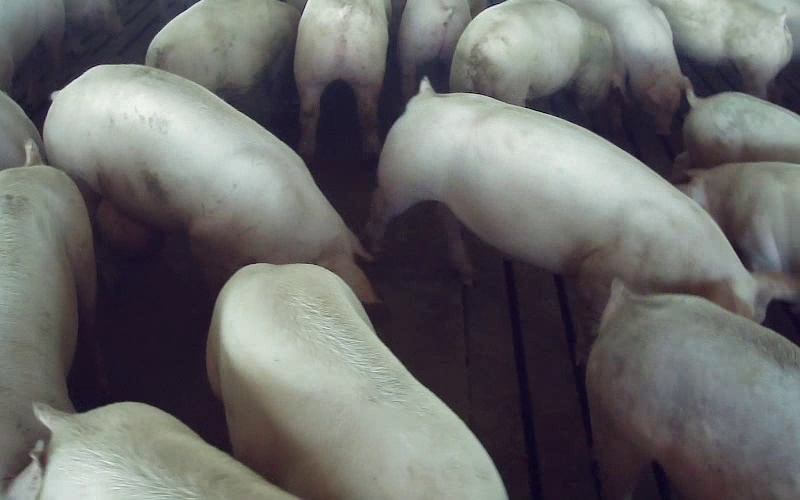pig: (368, 81, 754, 363), (44, 65, 374, 301), (207, 264, 504, 499), (586, 282, 799, 499), (0, 140, 95, 493), (34, 402, 296, 499), (450, 0, 624, 110), (146, 0, 299, 123), (563, 0, 684, 134), (294, 0, 389, 159), (652, 0, 792, 97), (683, 162, 799, 272), (683, 86, 799, 167)
